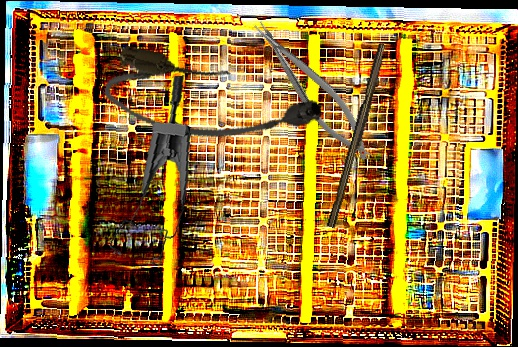Cannula: (99, 42, 327, 163)
Needle Holder: (247, 9, 380, 170)
Scalpel Handle: (326, 42, 390, 230)
Speculum: (92, 75, 205, 271)
